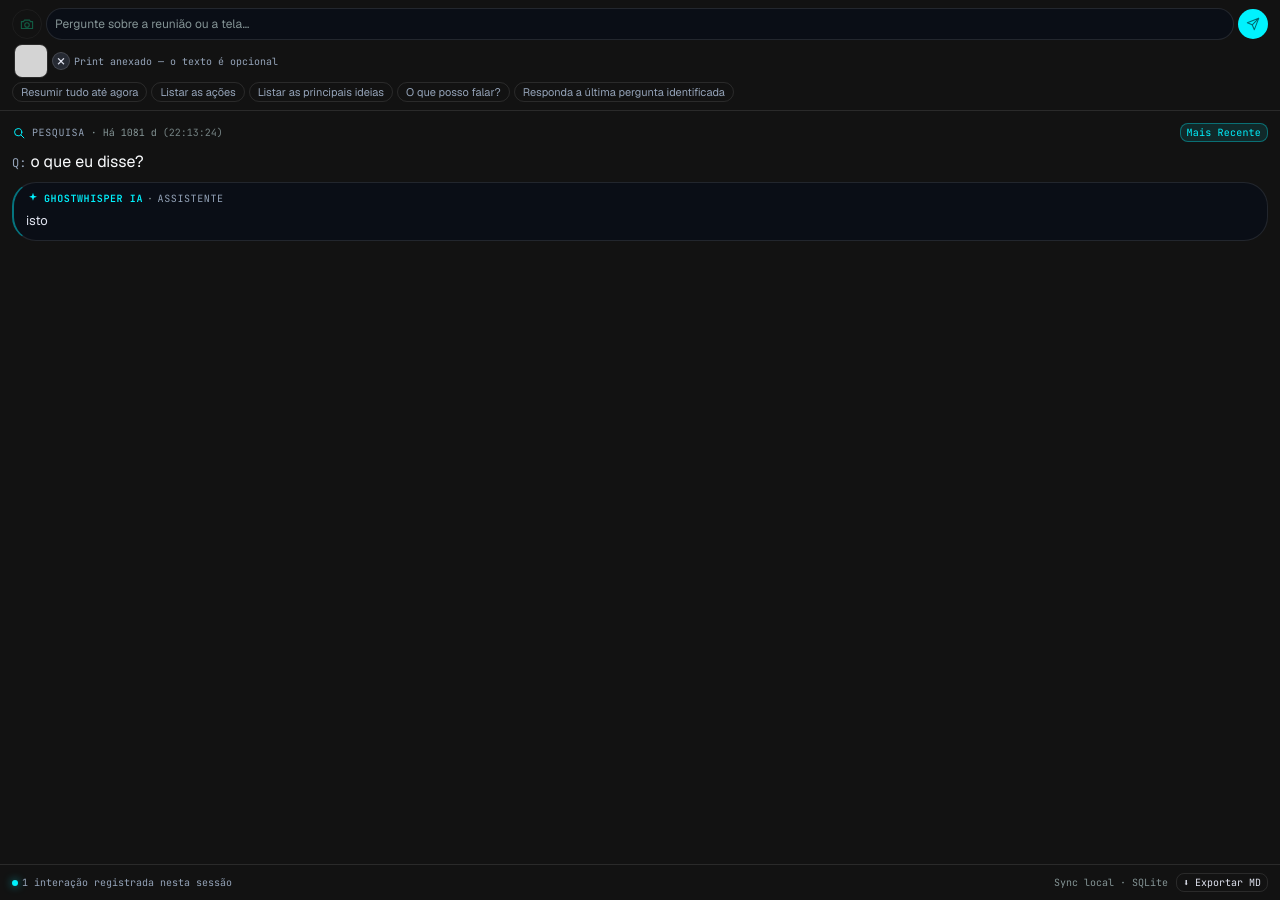
it: JournalView › remover o print descarta o anexo
Click the button named "Remover print": (61, 61) [52,52,70,70]
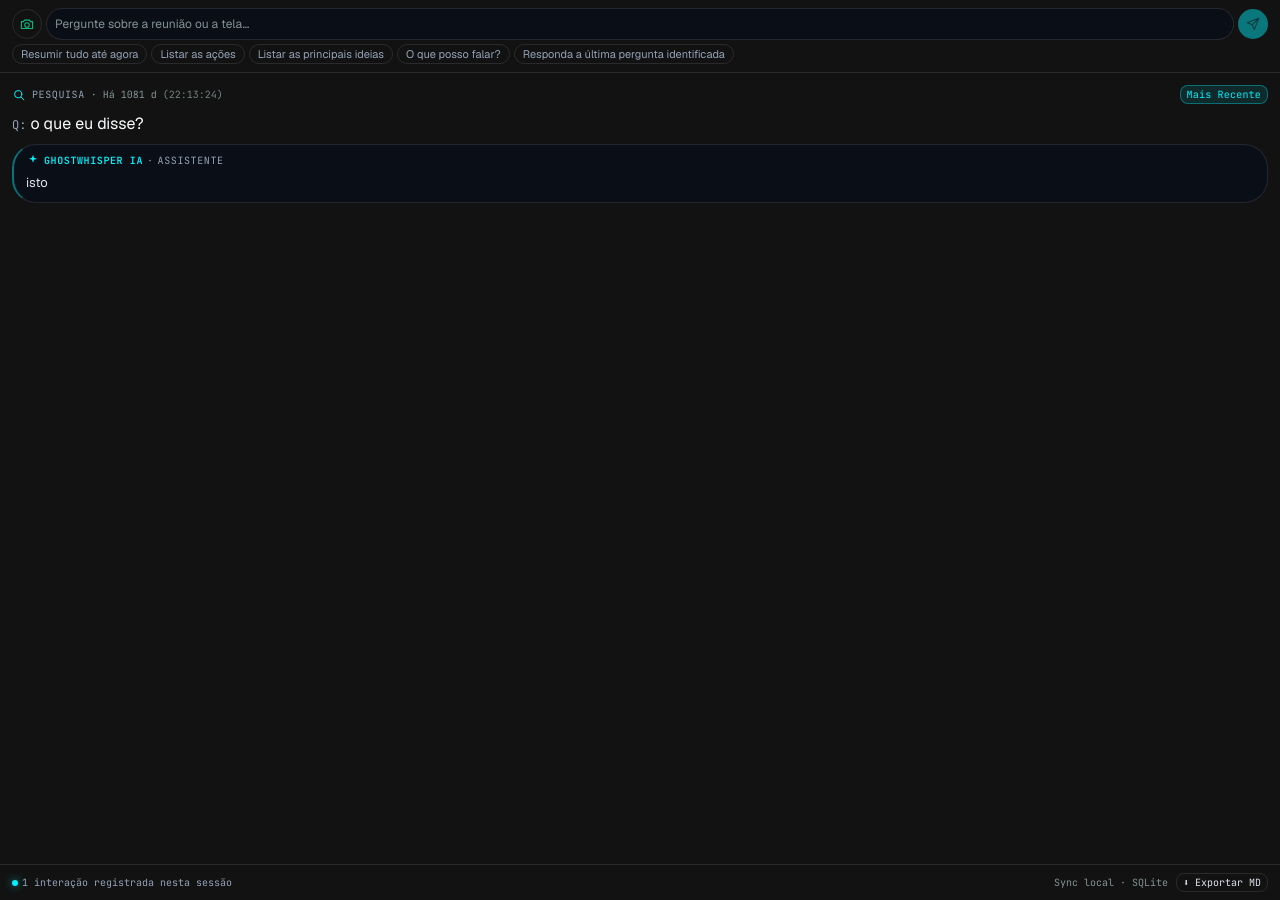
Now the text with alt text "Print anexado" is gone
